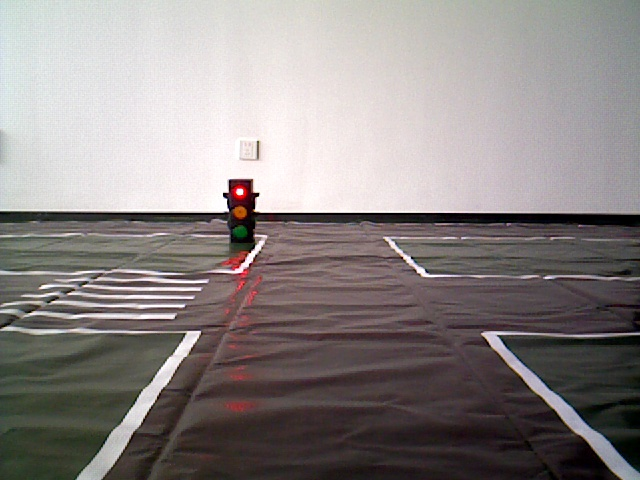red: (226, 181, 251, 243)
